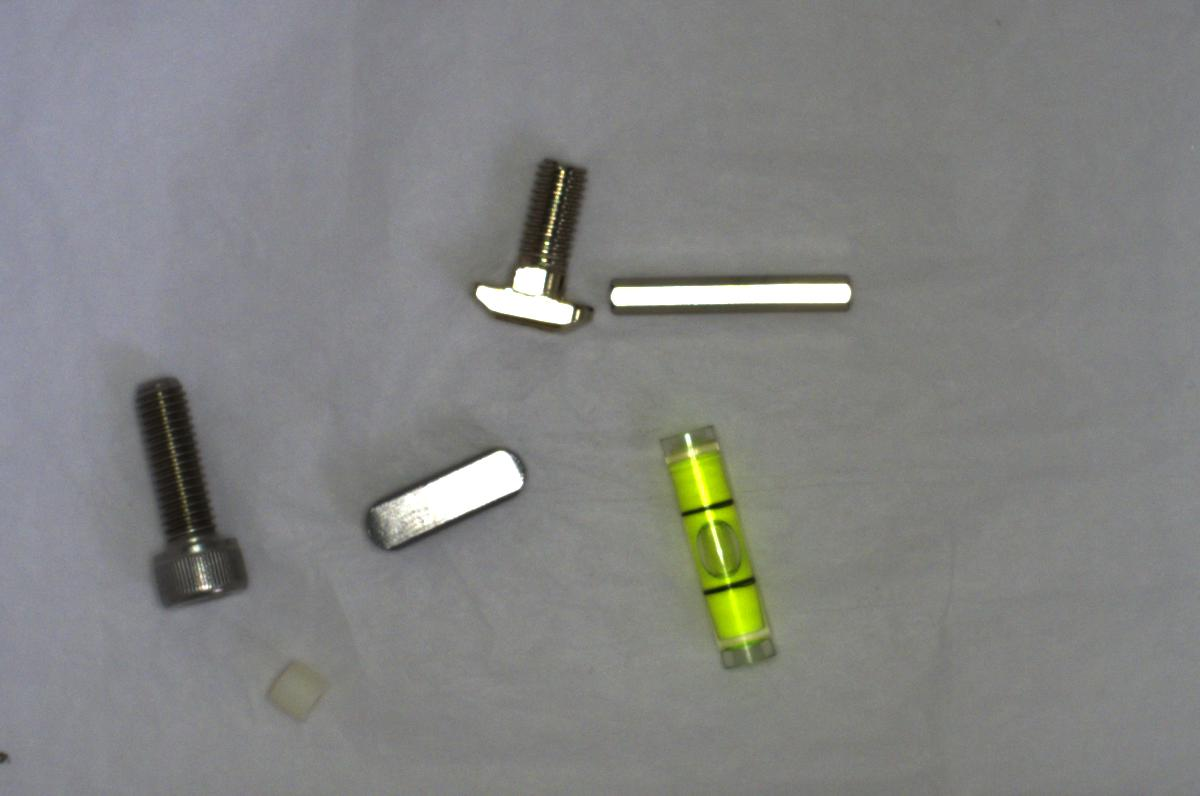Double hexagonal column: (602, 267, 862, 322)
Hexagon screw: (113, 365, 250, 614)
Horizontal bubble: (652, 418, 781, 674)
Keybar: (355, 428, 534, 572)
Plastic cushion pillar: (259, 654, 333, 721)
T-shaped screw: (457, 153, 605, 338)
